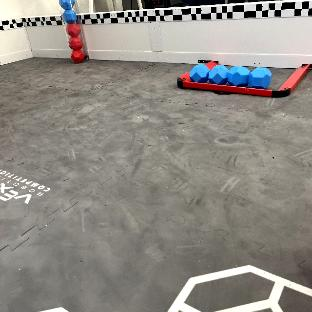Parking-R: (177, 64, 312, 97)
V5_BLUE: (189, 64, 271, 88)
